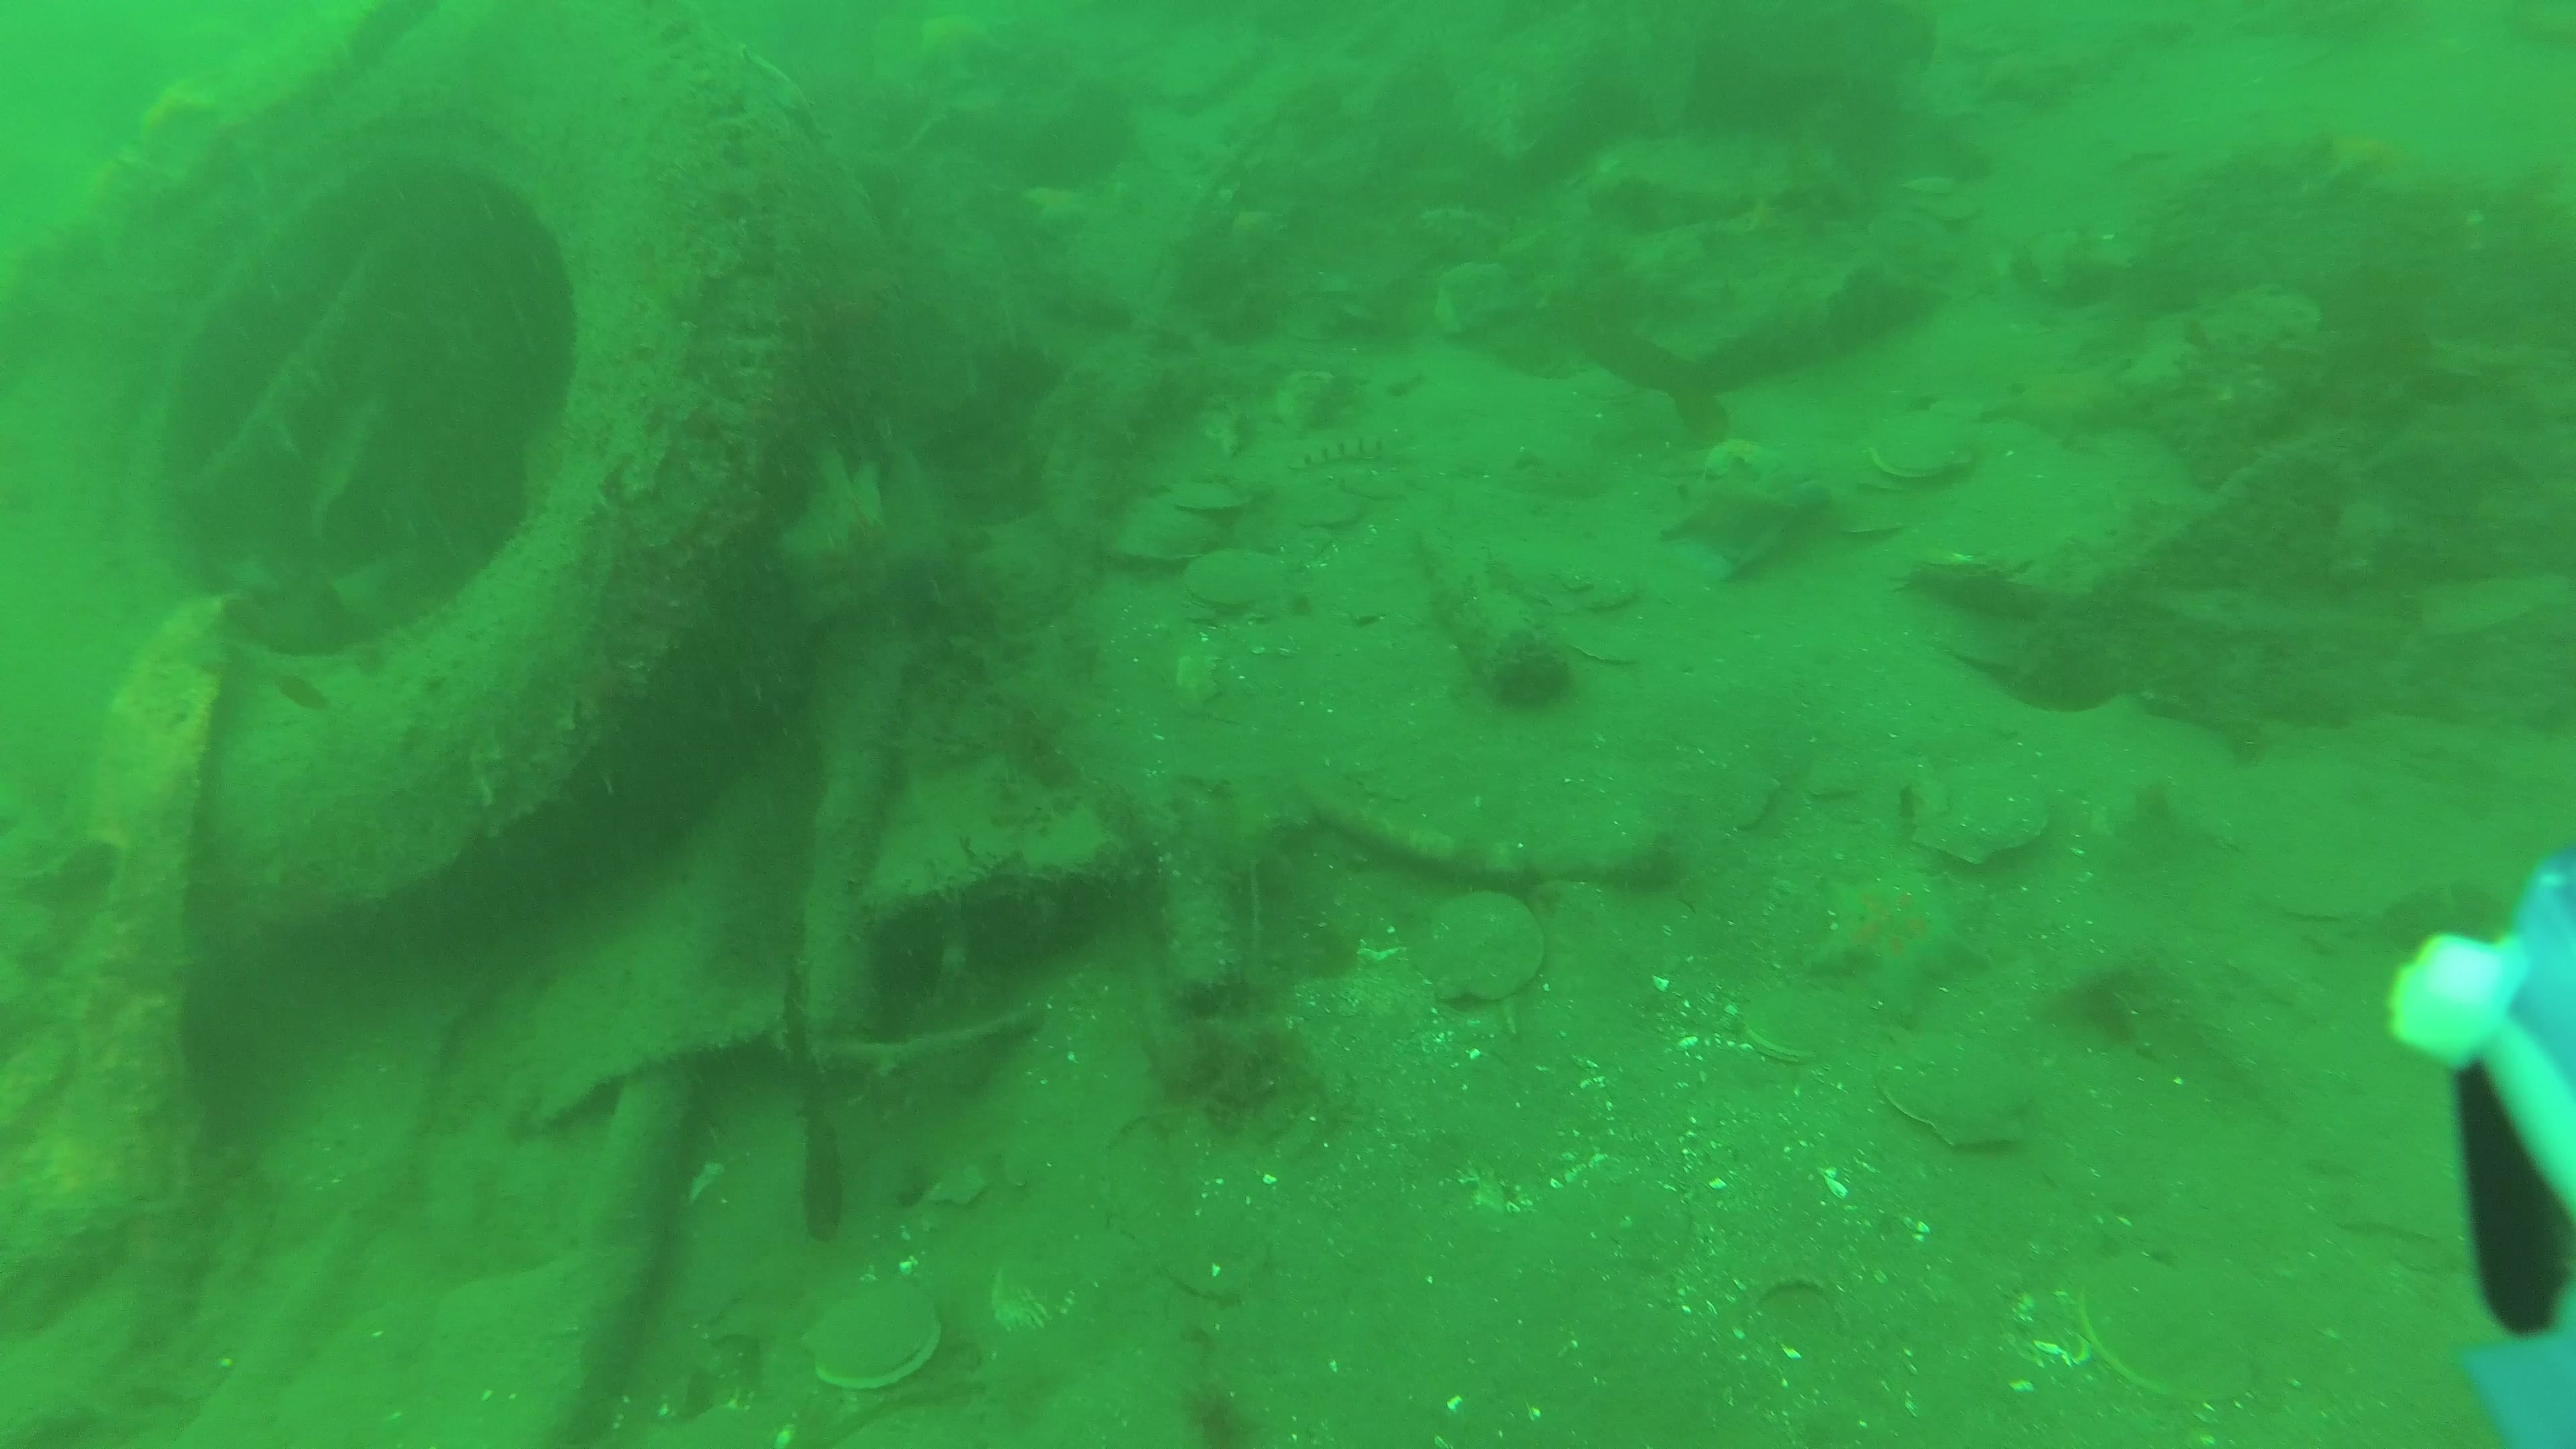scallop: (1914, 755, 2059, 867), (1884, 1047, 2029, 1148), (1422, 893, 1543, 1007), (803, 1297, 943, 1394), (1863, 402, 1978, 483), (1108, 499, 1233, 566), (1178, 552, 1283, 609), (1166, 476, 1254, 522)
starfish: (1810, 867, 1985, 1014), (775, 449, 904, 628)
